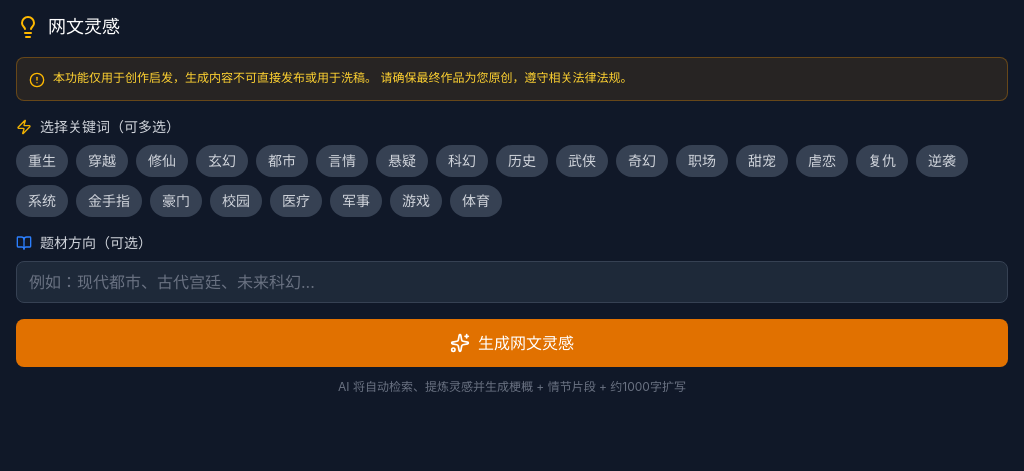
WebNovelInspiration Component › shows error when generation fails
Click the button "重生": (42, 161) [16,145,68,177]
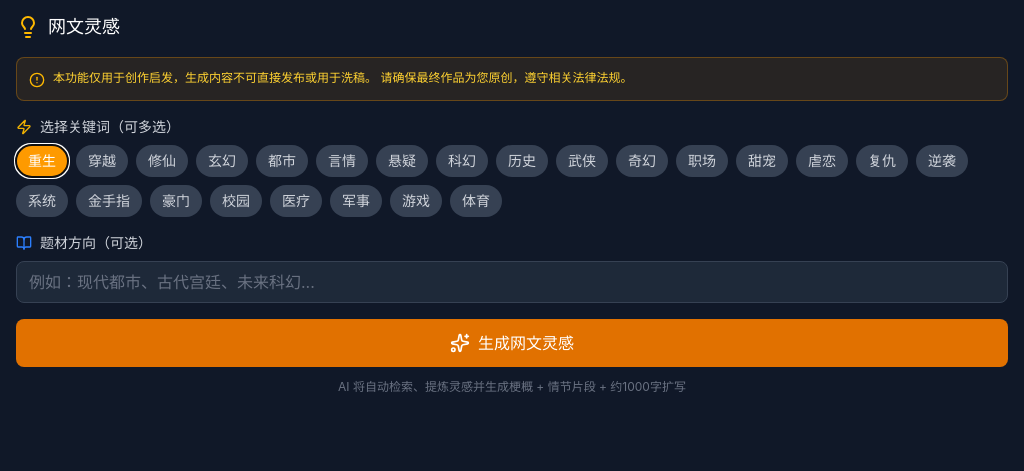
Click the button "生成网文灵感": (512, 343) [16,319,1008,367]
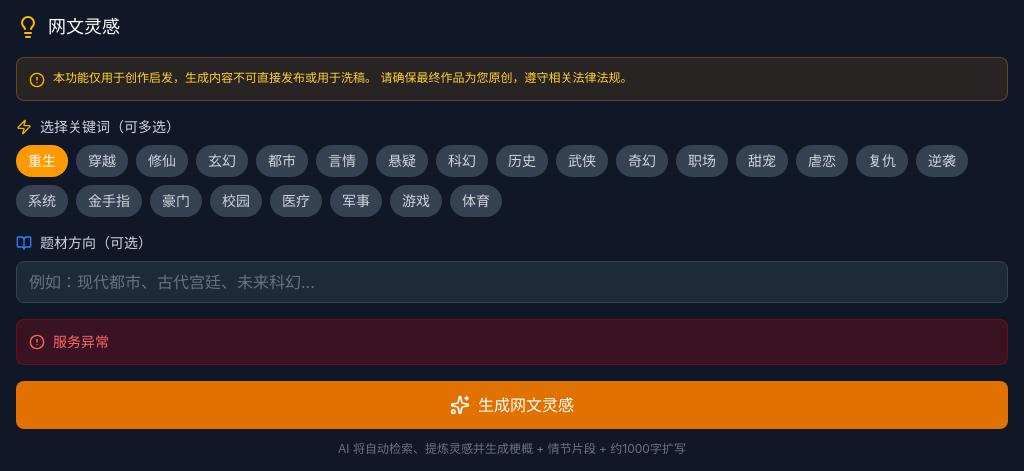
Expected: the text "服务异常" is shown, [16,319,1008,365]
